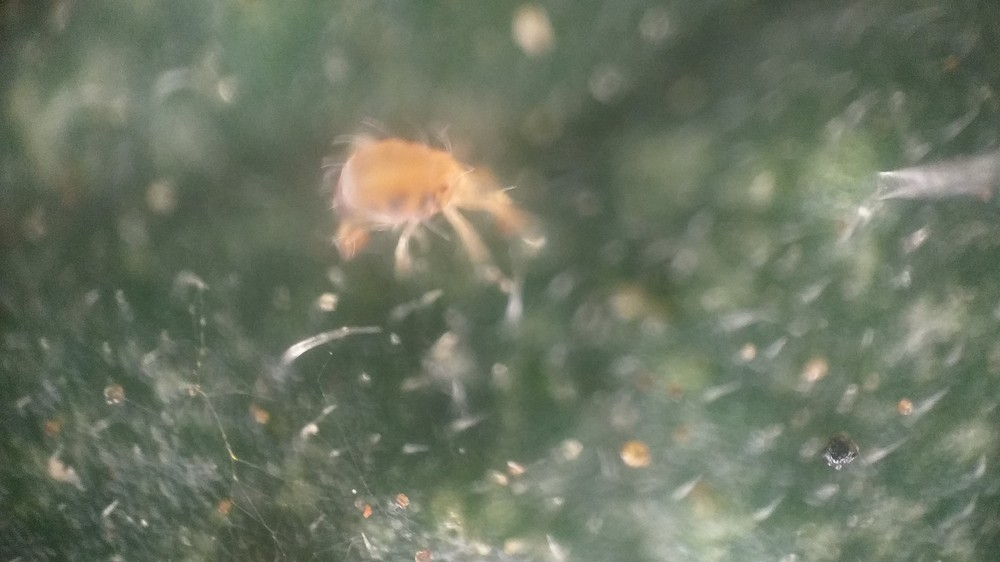Aracnido Rojo: (287, 86, 565, 290)
